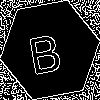B: (25, 25, 64, 75)
